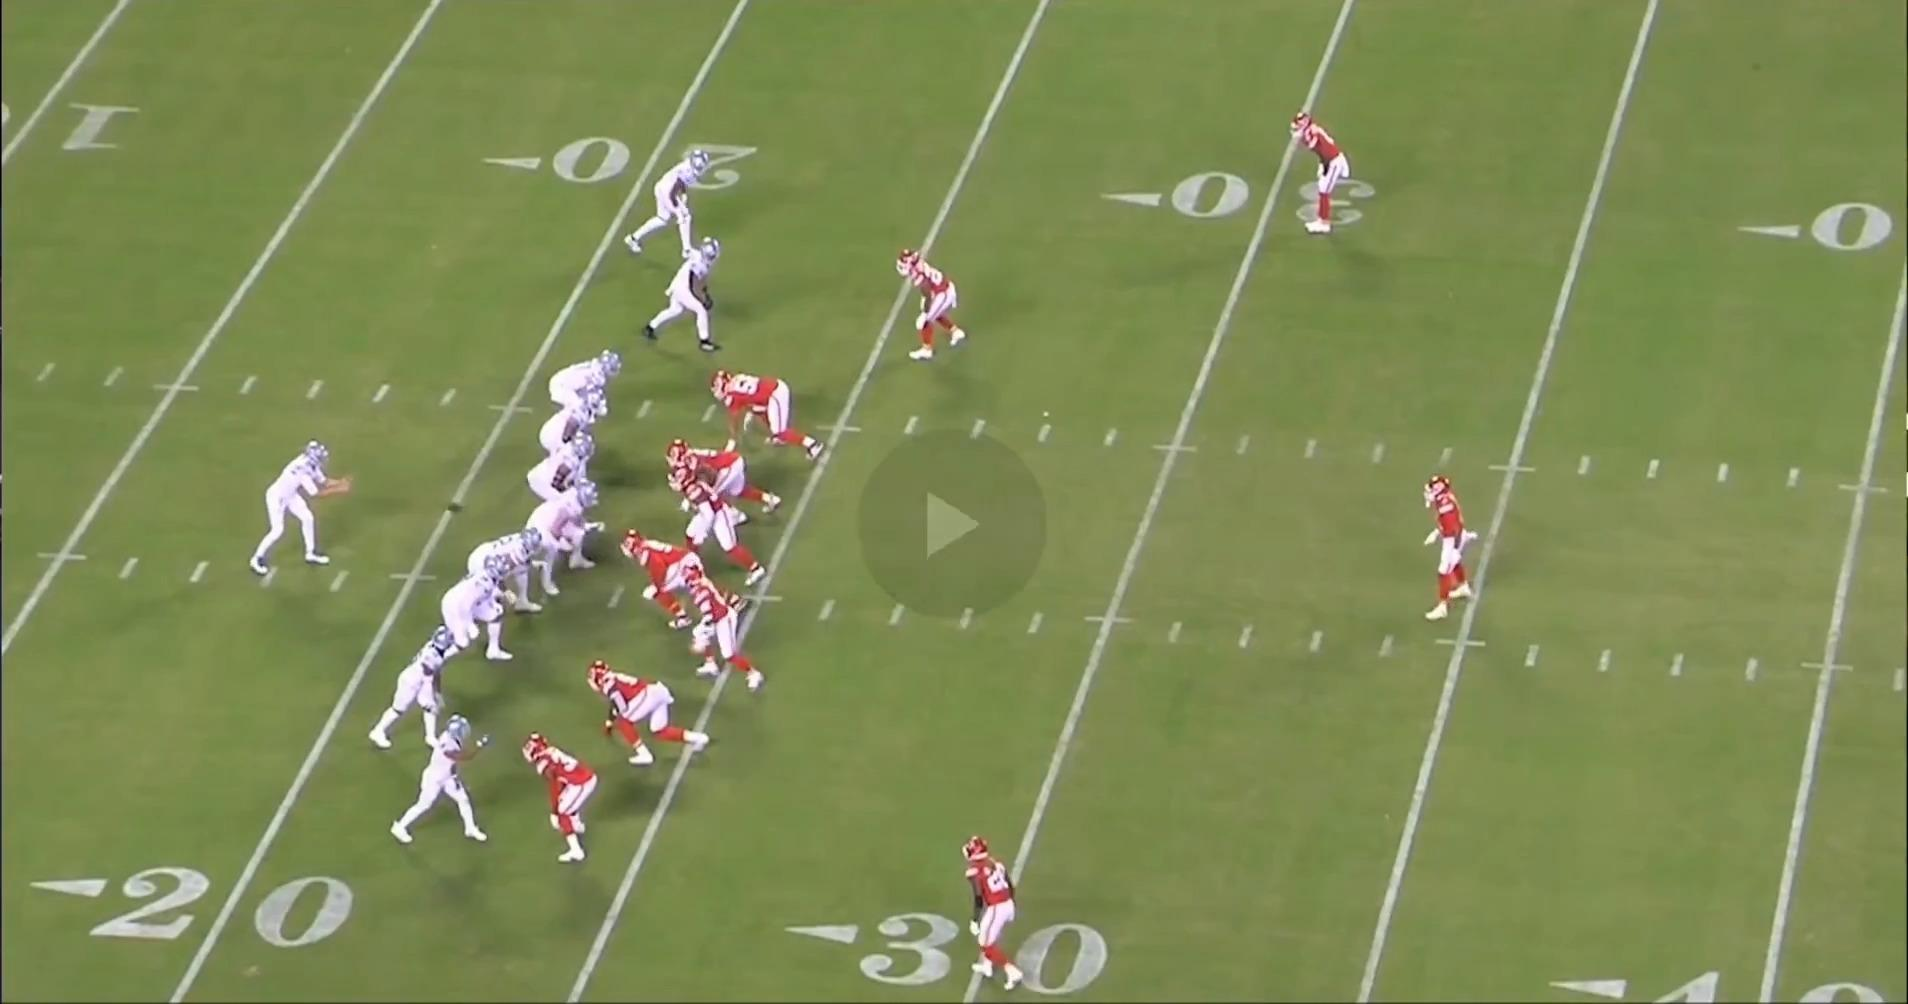defense: (592, 661, 717, 769), (950, 835, 1022, 1004), (681, 561, 772, 692), (678, 467, 776, 587), (517, 732, 597, 873), (707, 371, 827, 462), (669, 439, 789, 517), (1415, 477, 1474, 632), (1292, 110, 1360, 245), (617, 530, 702, 634), (897, 246, 967, 365)
oline: (511, 479, 596, 598), (432, 560, 515, 668), (463, 526, 546, 631), (526, 440, 598, 513), (527, 395, 597, 458)
qb: (247, 433, 355, 579)
skill: (387, 710, 491, 851), (370, 626, 467, 759), (616, 144, 708, 262), (640, 235, 728, 356), (545, 351, 623, 419)
